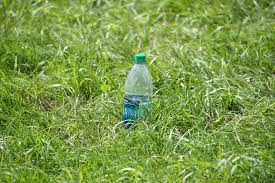plastic_bottle: (122, 55, 155, 136)
